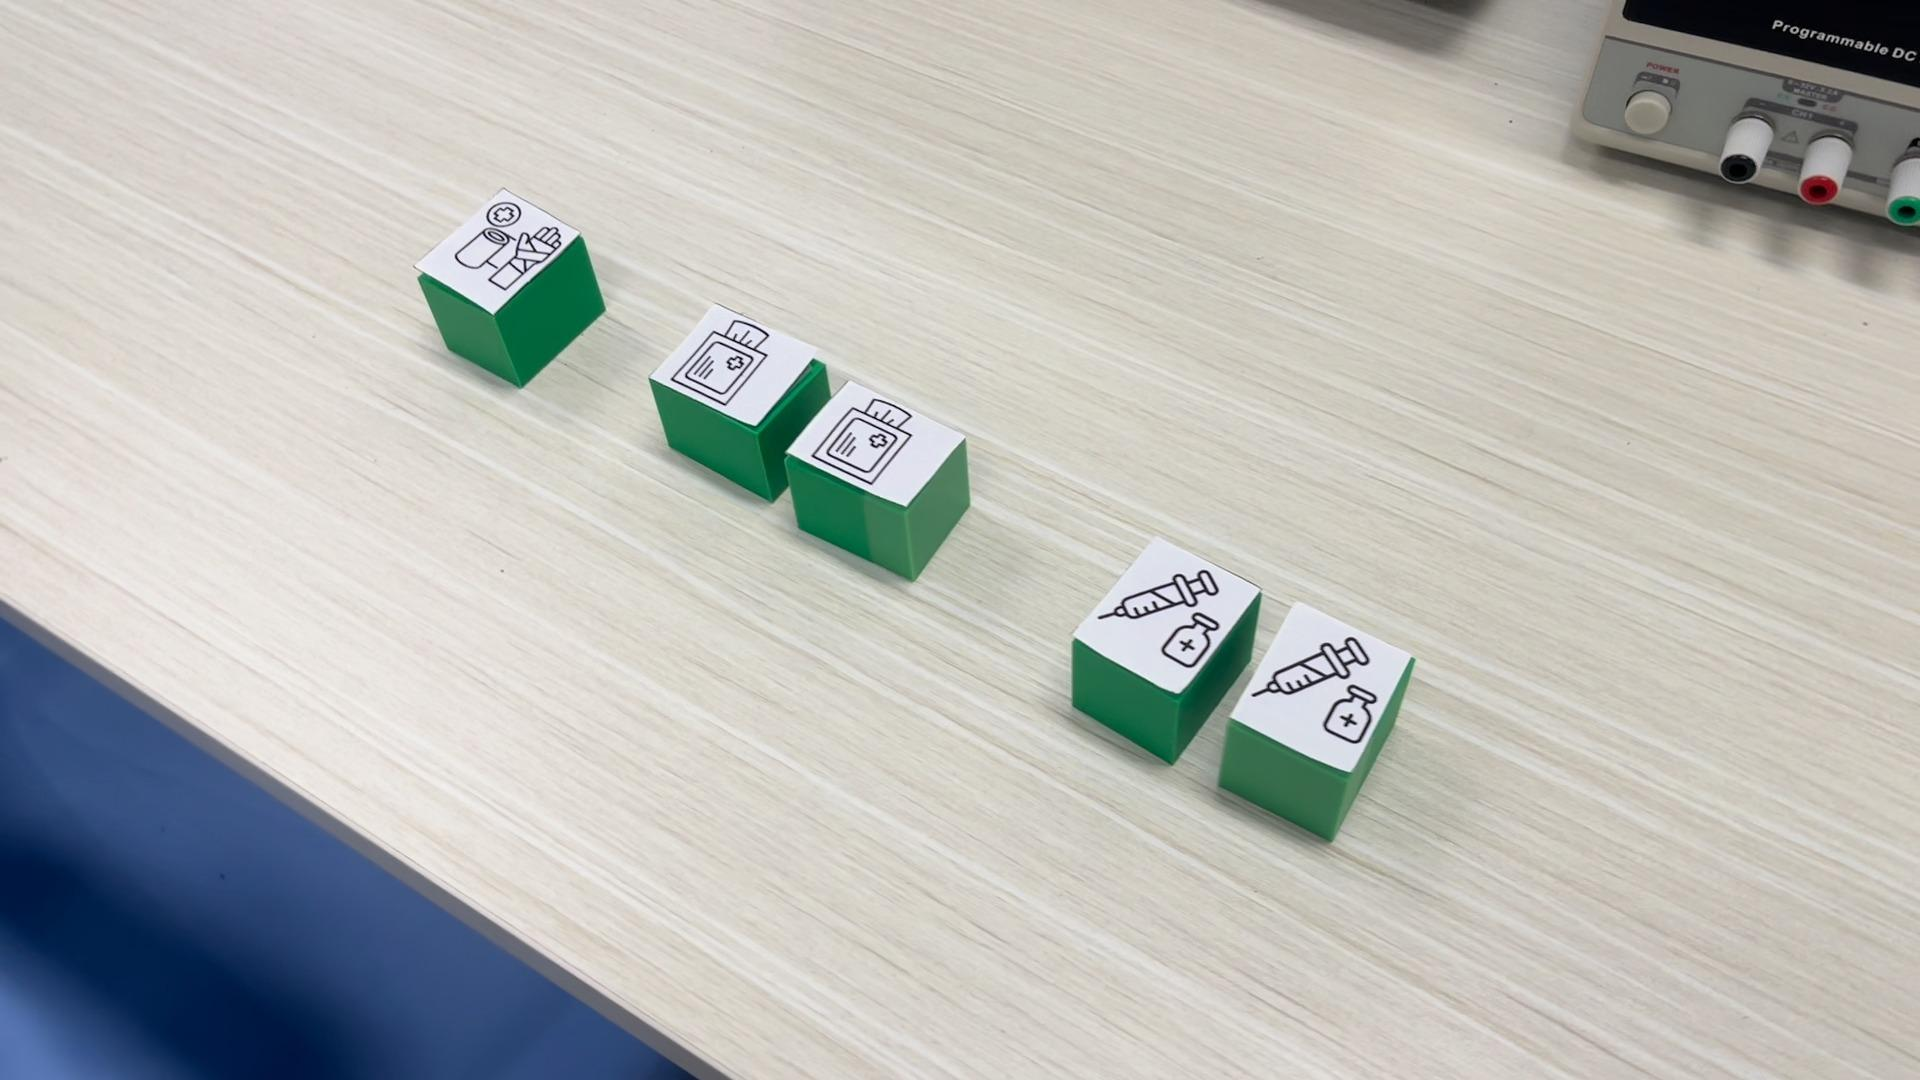Bandages: (415, 189, 607, 388)
Gauze: (786, 377, 972, 583), (644, 297, 823, 508)
antiseptic cream: (1221, 600, 1414, 843), (1068, 534, 1261, 767)
